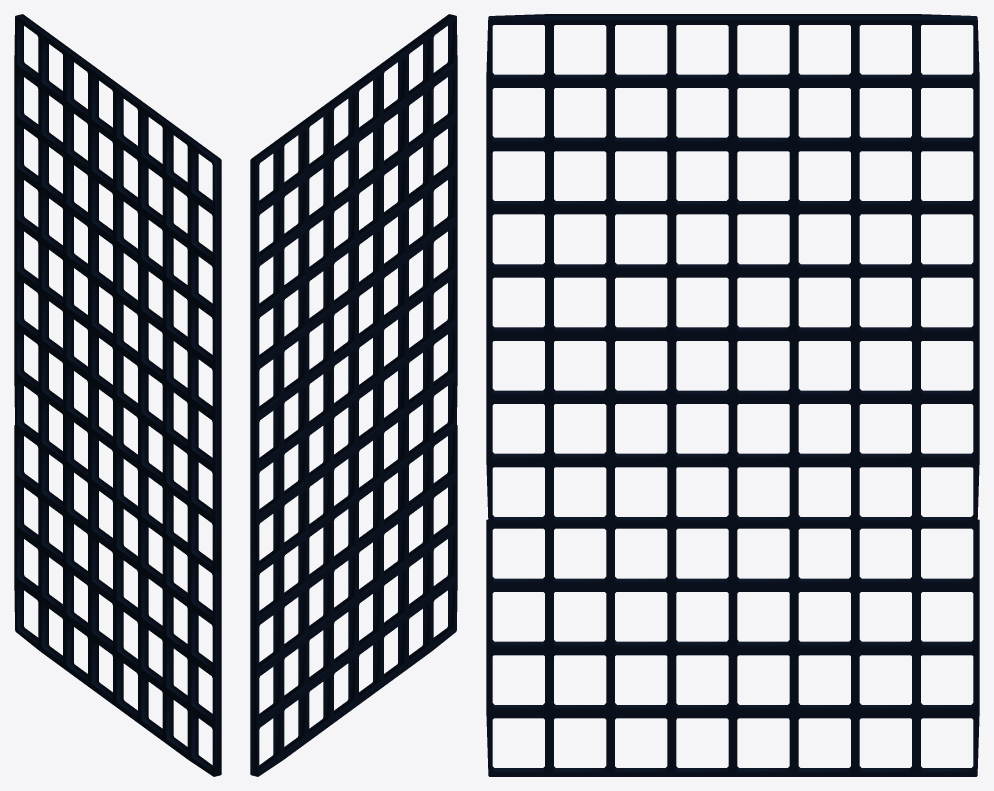
File: PPRectangleMeshNEW.fbx
3 renders of one model, left to right at view 1: azimuth 30°, elevation 25°; view 2: azimuth 150°, elevation 25°; view 3: azimuth 270°, elevation 25°, orthographic. The views are drawn at different scales.
Parts seen in each view (by area): view 1: Cube; view 2: Cube; view 3: Cube.
Part boxes in pixels (x1,y1,x2,y2): Cube: [14, 14, 221, 776]; Cube: [250, 14, 457, 776]; Cube: [486, 14, 979, 776].
Size of the model in its own units: 18.9 by 1541 by 906.
